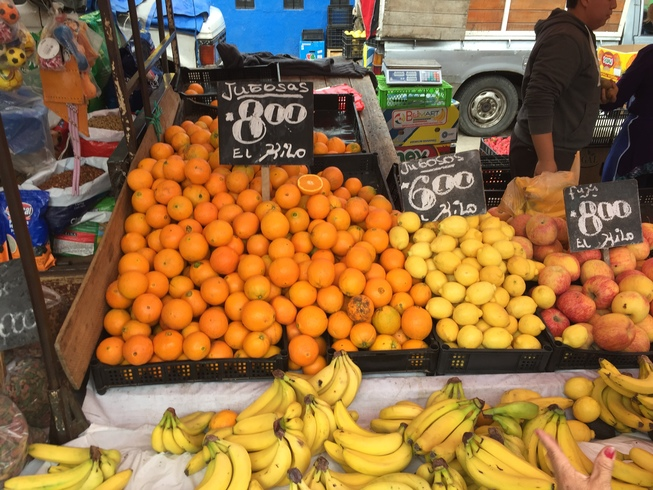precio: (215, 75, 319, 170), (399, 149, 498, 230), (560, 183, 653, 259)
